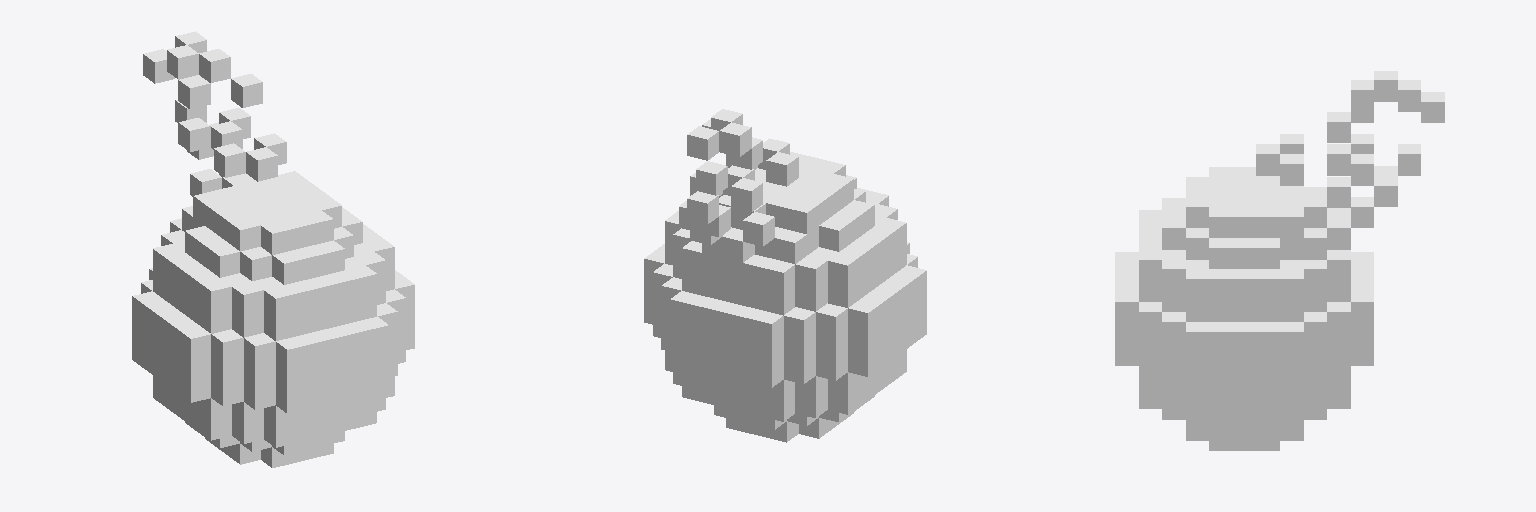
File: Meteor.obj
The picture shows the model from 3 angles: view 1: azimuth 30°, elevation 25°; view 2: azimuth 150°, elevation 25°; view 3: azimuth 270°, elevation 25°; orthographic projection.
Bounding box in the file's own units: 11 × 16 × 14.